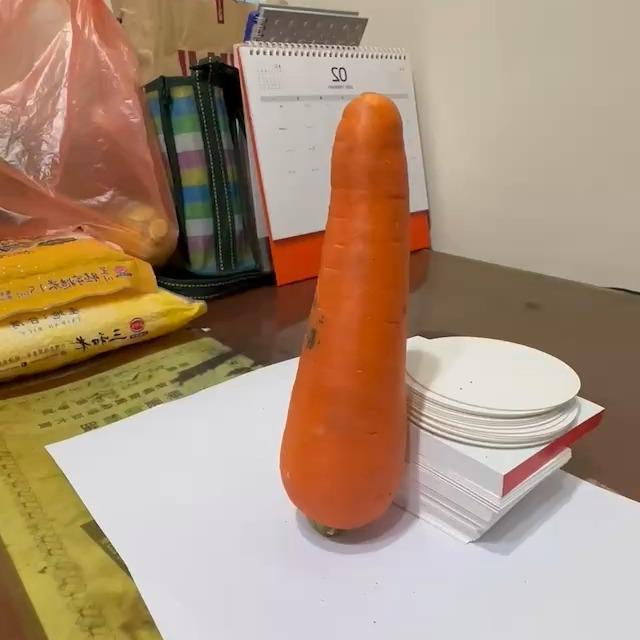carrot: (278, 93, 412, 544)
